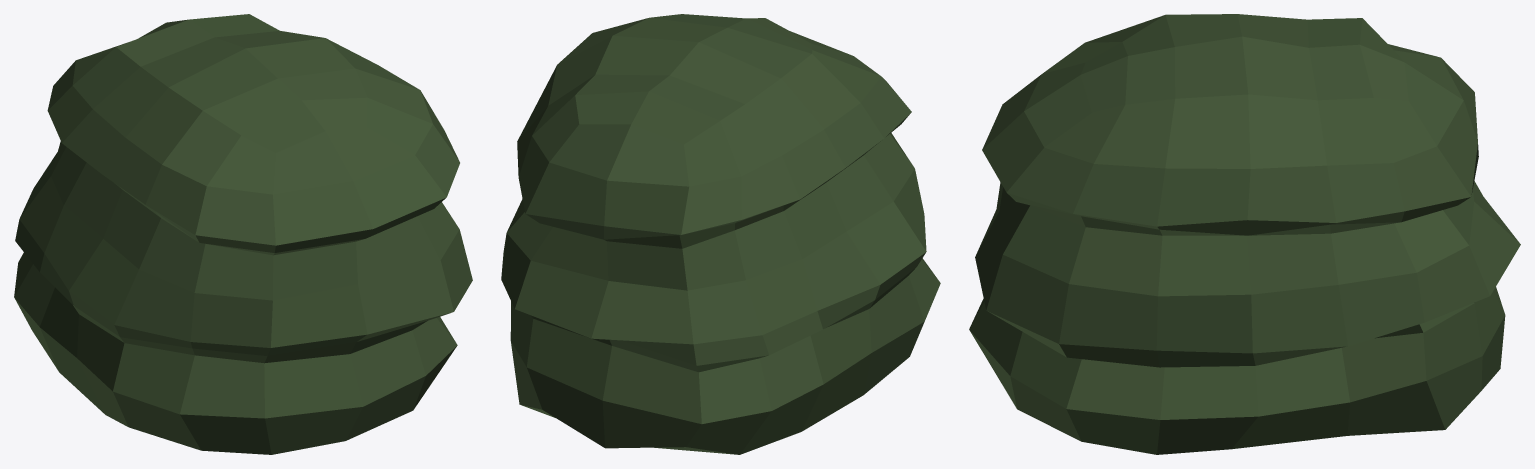
Rendered from Bush_1.glb.
3 renders of one model, left to right at view 1: azimuth 30°, elevation 25°; view 2: azimuth 150°, elevation 25°; view 3: azimuth 270°, elevation 25°, orthographic. The views are drawn at different scales.
Parts seen in each view (by area): view 1: Bush_1; view 2: Bush_1; view 3: Bush_1.
Boxes of the visible parts, x1,y1,x2,y2 form: Bush_1: [14, 14, 472, 454]; Bush_1: [501, 14, 940, 454]; Bush_1: [969, 14, 1520, 454].
Size of the model in its own units: 1.33 by 1.24 by 1.69.
